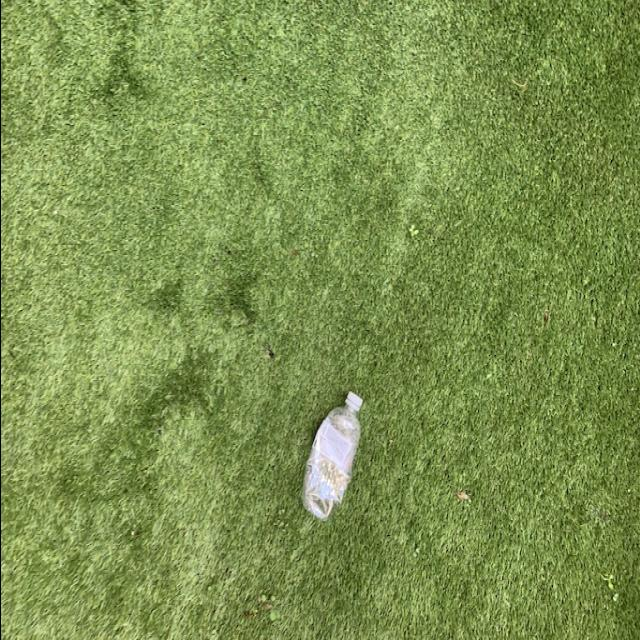litter: (294, 386, 362, 525)
